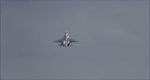maybay_muctieu: (53, 29, 78, 47)
